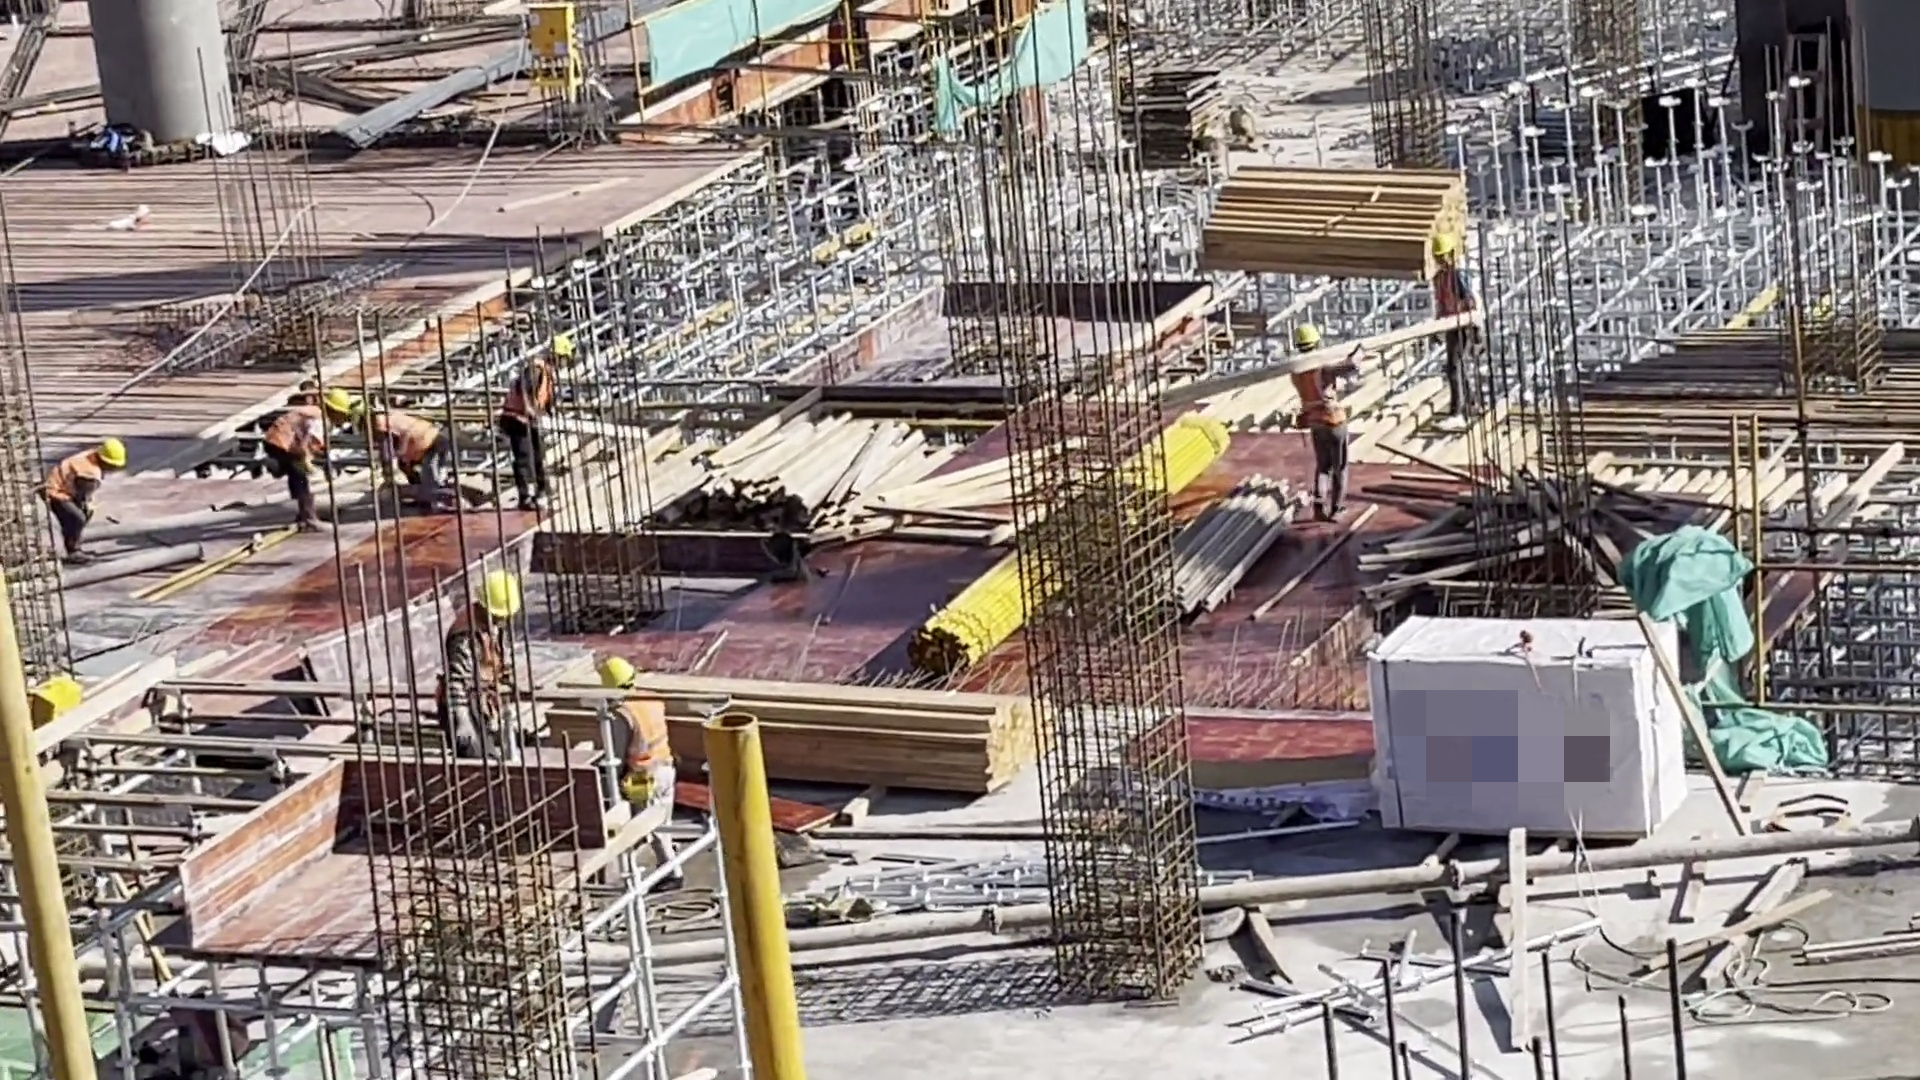board: (573, 642, 685, 886), (449, 562, 540, 756)
ebox: (520, 1, 588, 91)
helmet: (478, 567, 523, 626), (90, 423, 125, 472), (317, 378, 351, 428), (597, 642, 638, 683), (1427, 236, 1463, 268), (348, 397, 378, 428), (534, 333, 573, 358), (1286, 310, 1314, 341)
person: (1415, 231, 1506, 422), (246, 388, 365, 531), (1280, 328, 1364, 504), (38, 416, 128, 563), (500, 336, 574, 503), (365, 397, 446, 500)
rebar: (1521, 328, 1916, 460)
vest: (590, 696, 678, 786), (444, 624, 519, 724), (262, 401, 335, 473), (1293, 358, 1345, 426), (38, 450, 103, 501), (377, 416, 432, 466), (1432, 276, 1475, 331), (518, 360, 553, 423)
wood: (1195, 164, 1468, 289)
